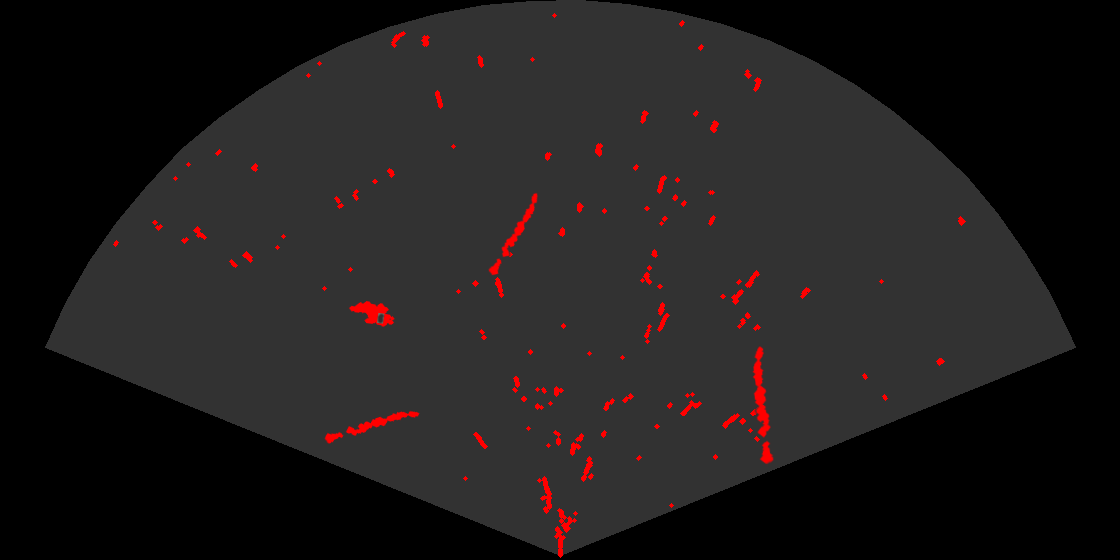AUV: (347, 299, 396, 328)
chain: (487, 191, 540, 278), (323, 409, 421, 445), (751, 345, 775, 467)
